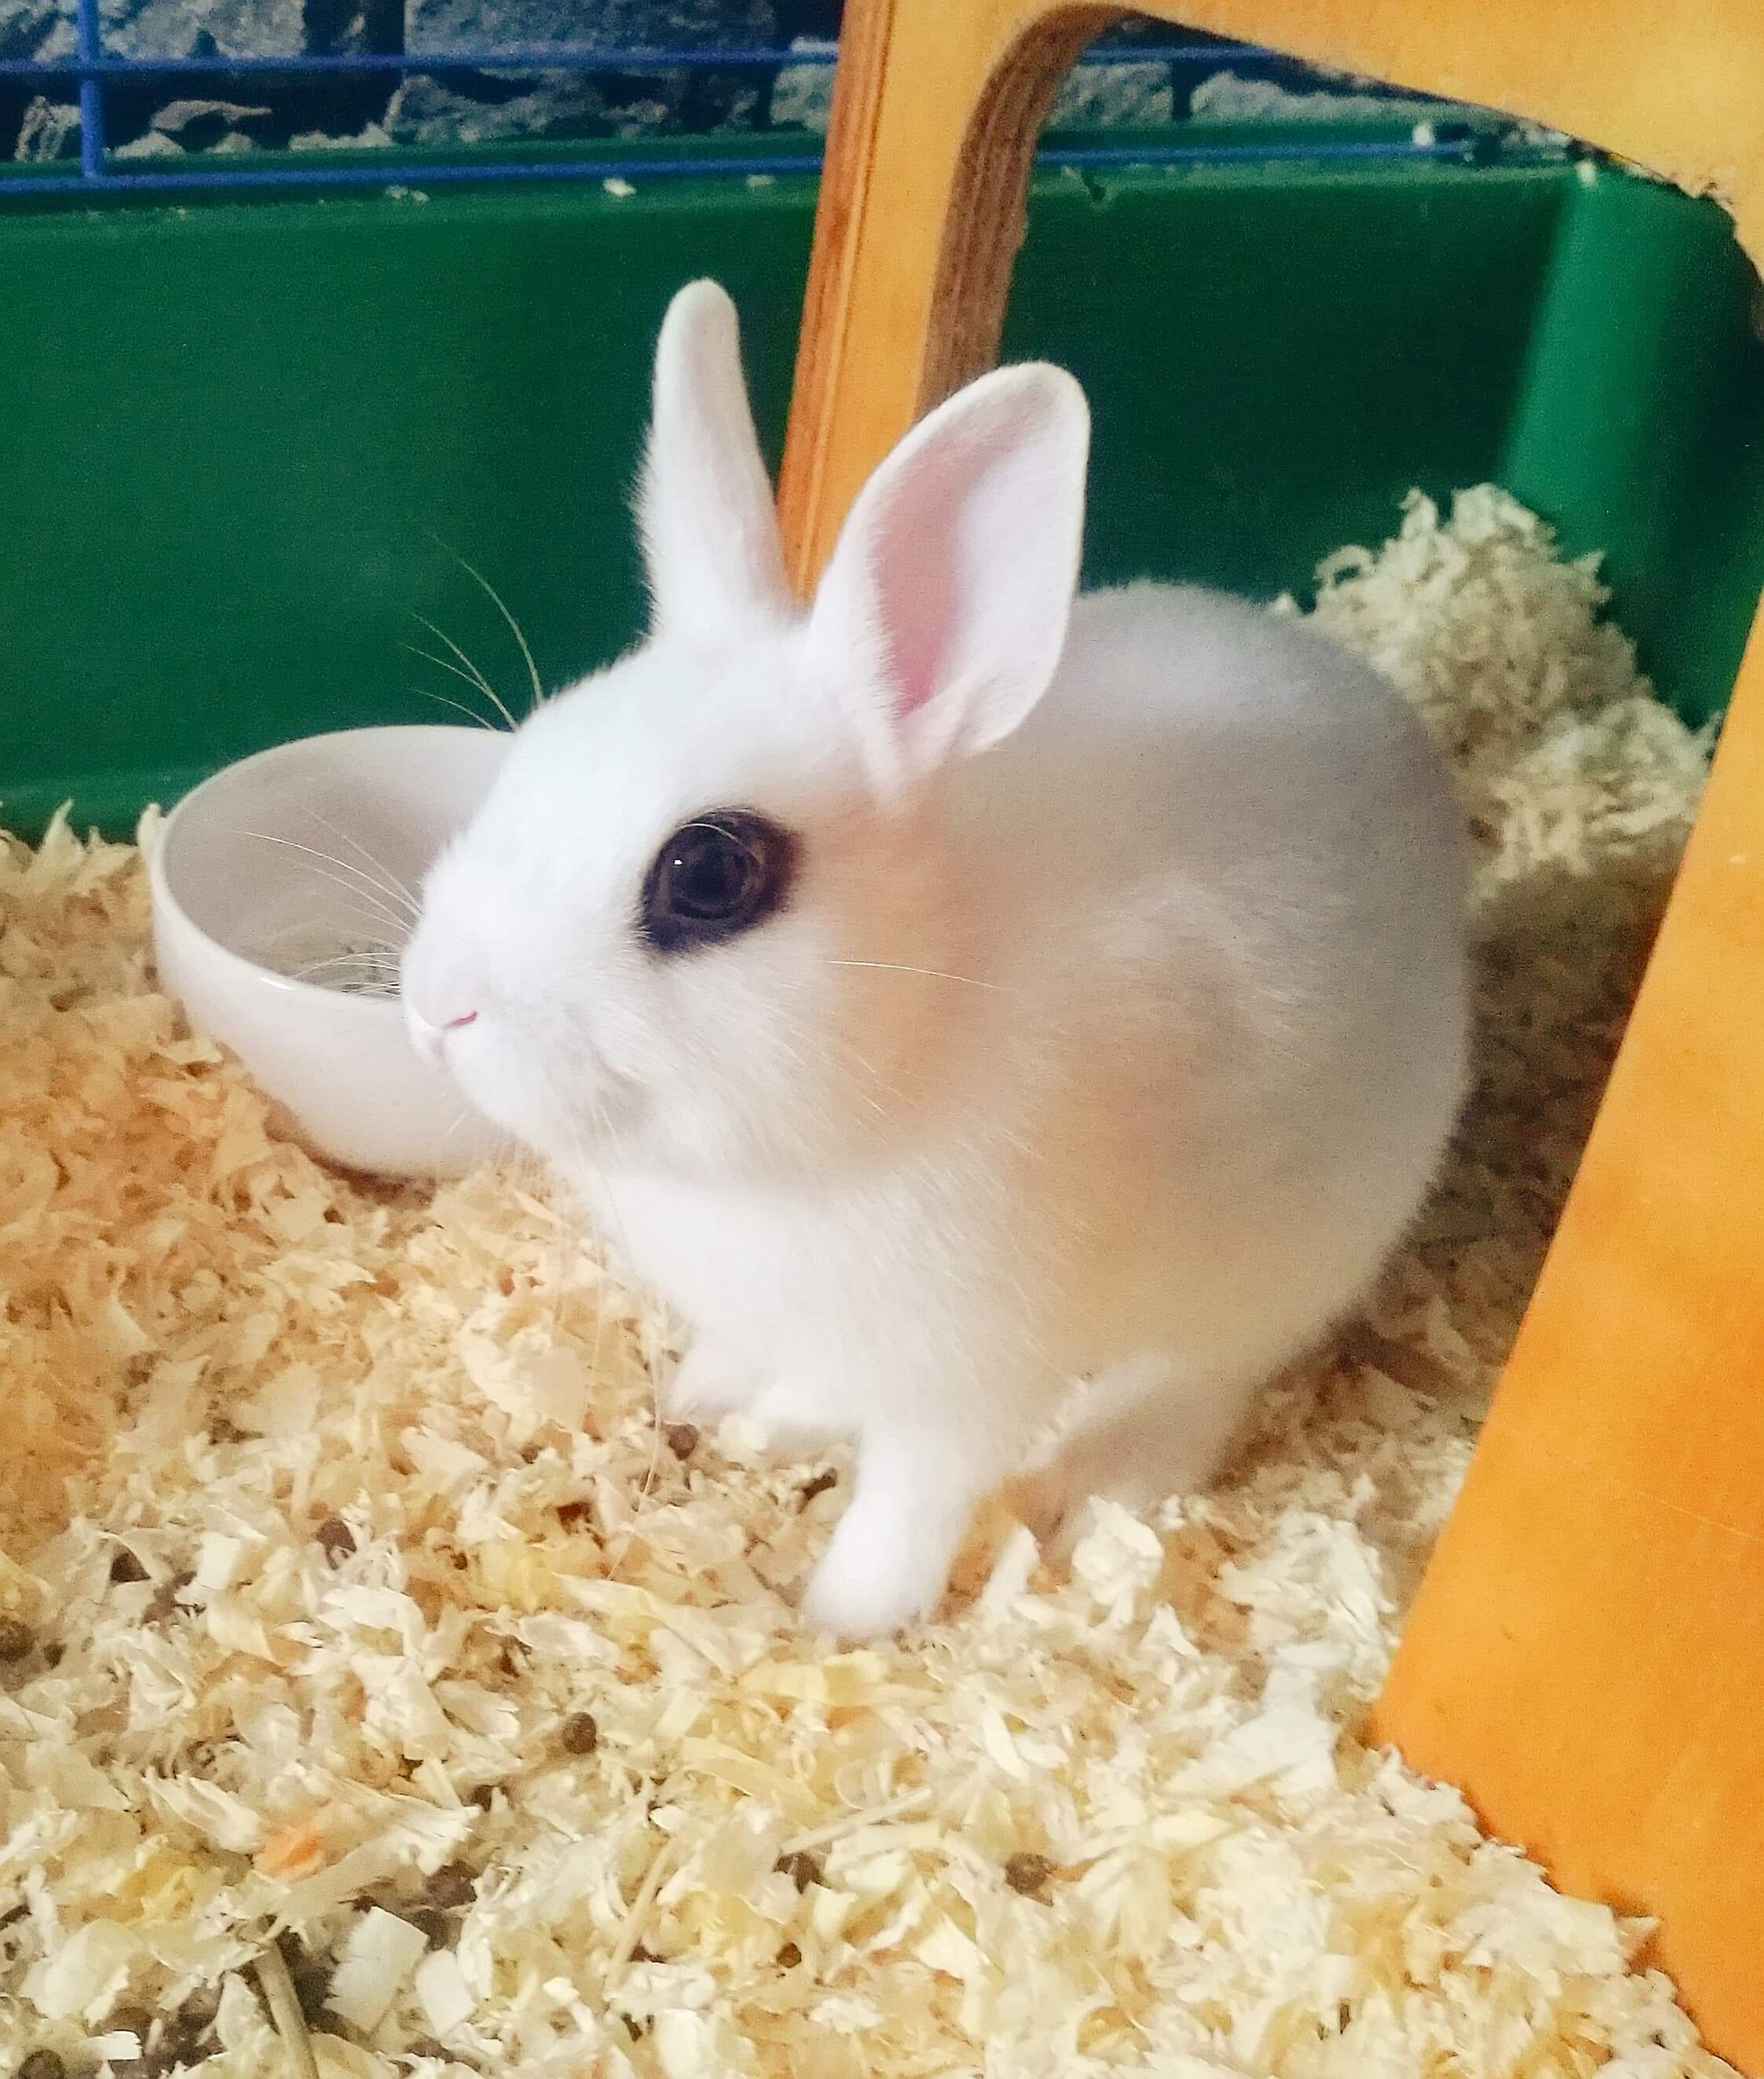bunny: (376, 266, 1586, 1671)
